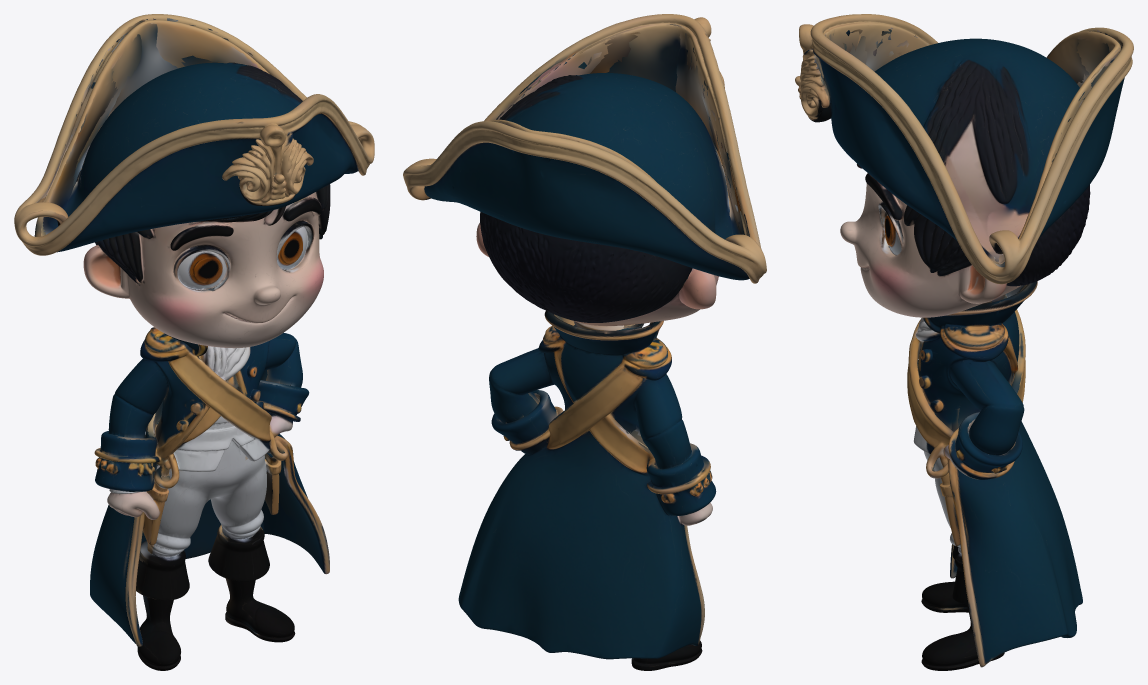
Rendered from napoleon.glb.
The picture shows the model from 3 angles, left to right: view 1: azimuth 30°, elevation 25°; view 2: azimuth 150°, elevation 25°; view 3: azimuth 270°, elevation 25°; orthographic projection. The views are drawn at different scales.
Parts seen in each view (by area): view 1: texture_pbr_v128; view 2: texture_pbr_v128; view 3: texture_pbr_v128.
Boxes of the visible parts, left/top/right/bottom form: texture_pbr_v128: left=14, top=14, right=374, bottom=670; texture_pbr_v128: left=403, top=14, right=766, bottom=670; texture_pbr_v128: left=795, top=14, right=1133, bottom=670.
Size of the model in its own units: 0.7051 by 1.09 by 0.5501.
Materials: 1 (1 with a texture image).
